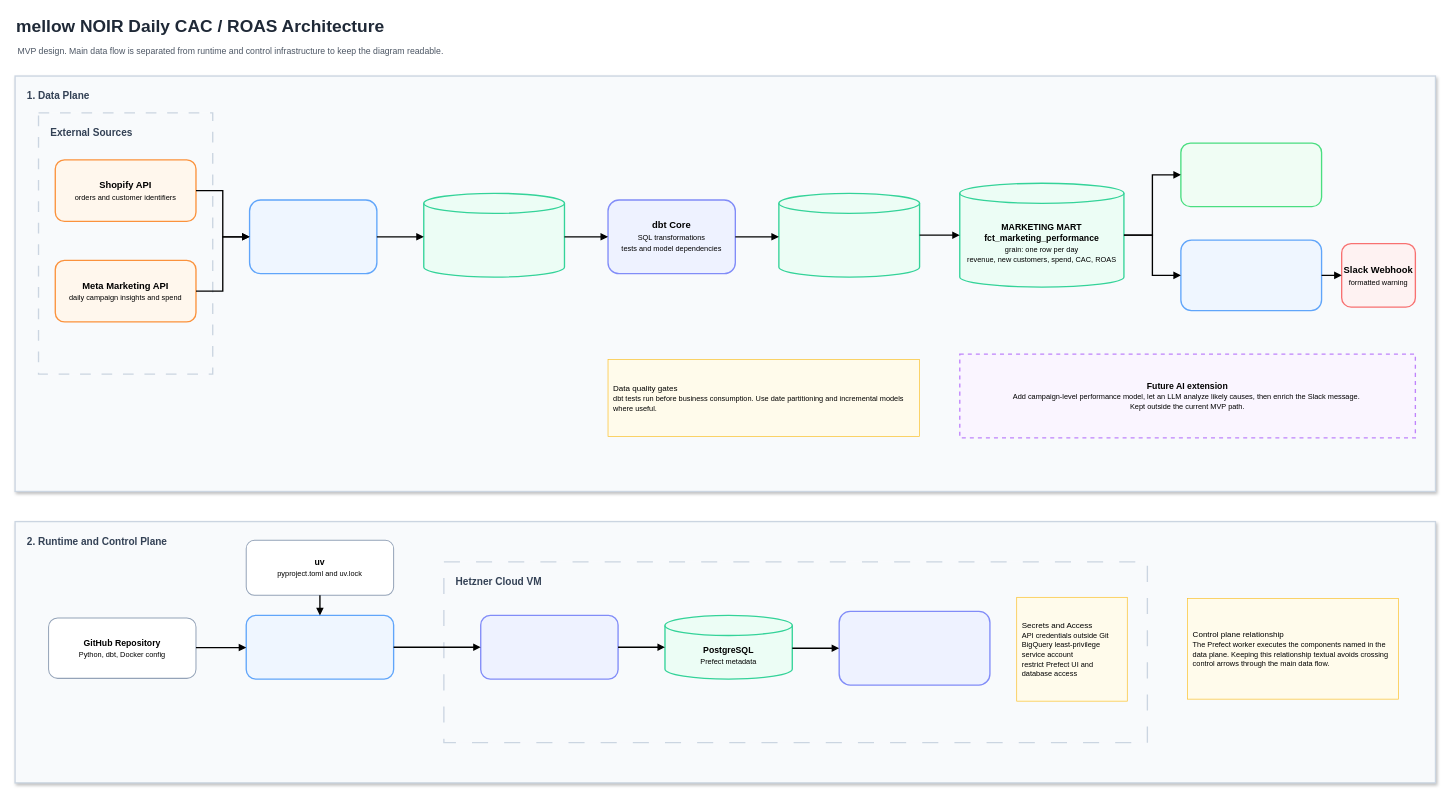
The diagram is 1451 pixels wide and 799 high, and some of its shapes have lost their labels. Each missing label, with the centre of its shape:
"BigQuery RAW / SOURCE src_shopify_orders src_meta_insights" goes at (x=494, y=234).
"BigQuery STAGING stg_shopify_orders stg_meta_insights" goes at (x=849, y=234).
"Daily Report / BI daily CAC and ROAS" goes at (x=1251, y=174).
"dlt incremental daily ingestion pagination and retry" goes at (x=313, y=236).
"Docker / Compose repeatable runtime" goes at (x=319, y=646).
"Prefect Server schedule, flow state, logs" goes at (x=549, y=646).
"Prefect Worker executes dlt, dbt and alert tasks" goes at (x=914, y=647).
"Python Alert Task query yesterday evaluate ROAS < 1.5" goes at (x=1251, y=275).
